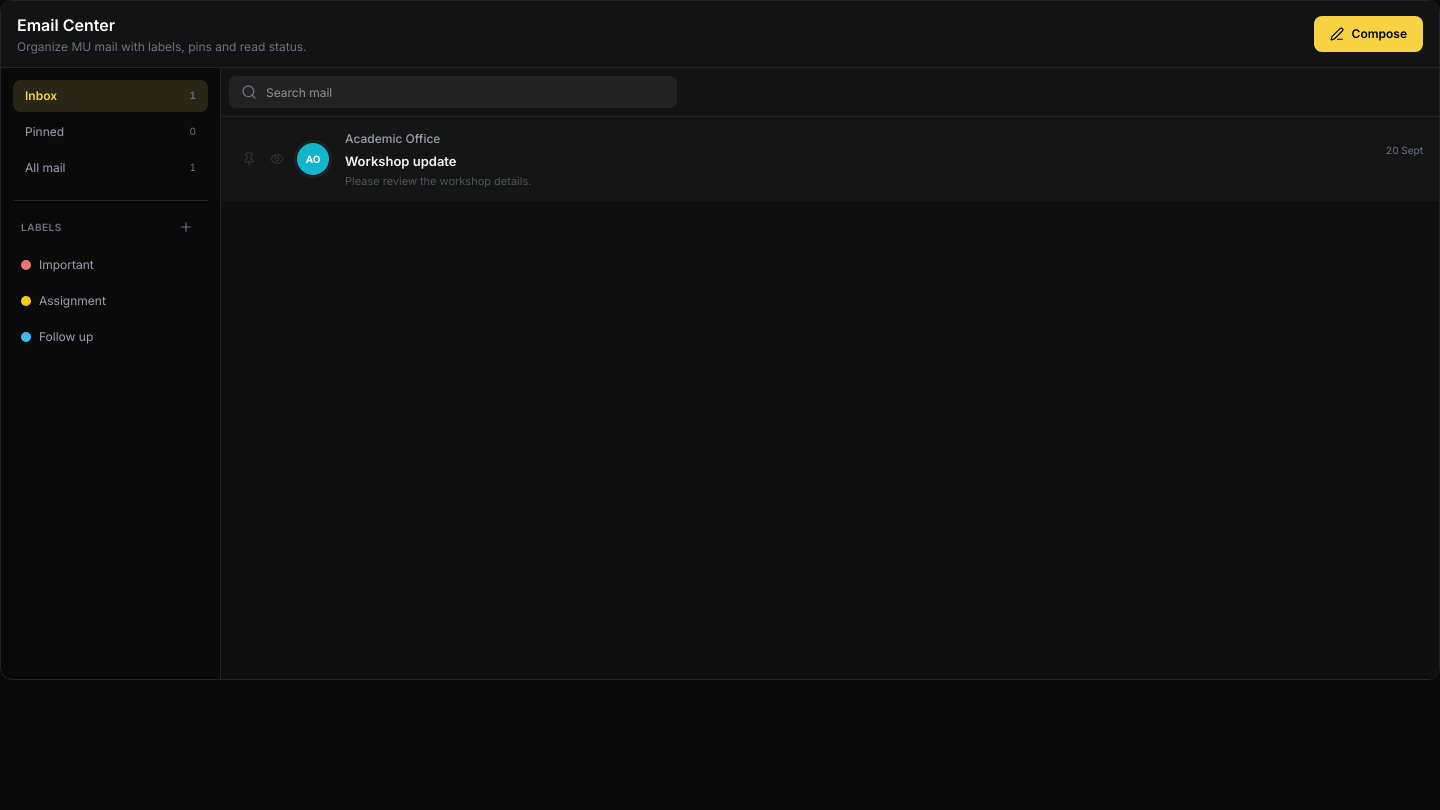
Test: marking an unlabeled email as read removes it from the inbox view
Click the button named "Mark Workshop update as read" at [277, 159], box [265,147,289,171]
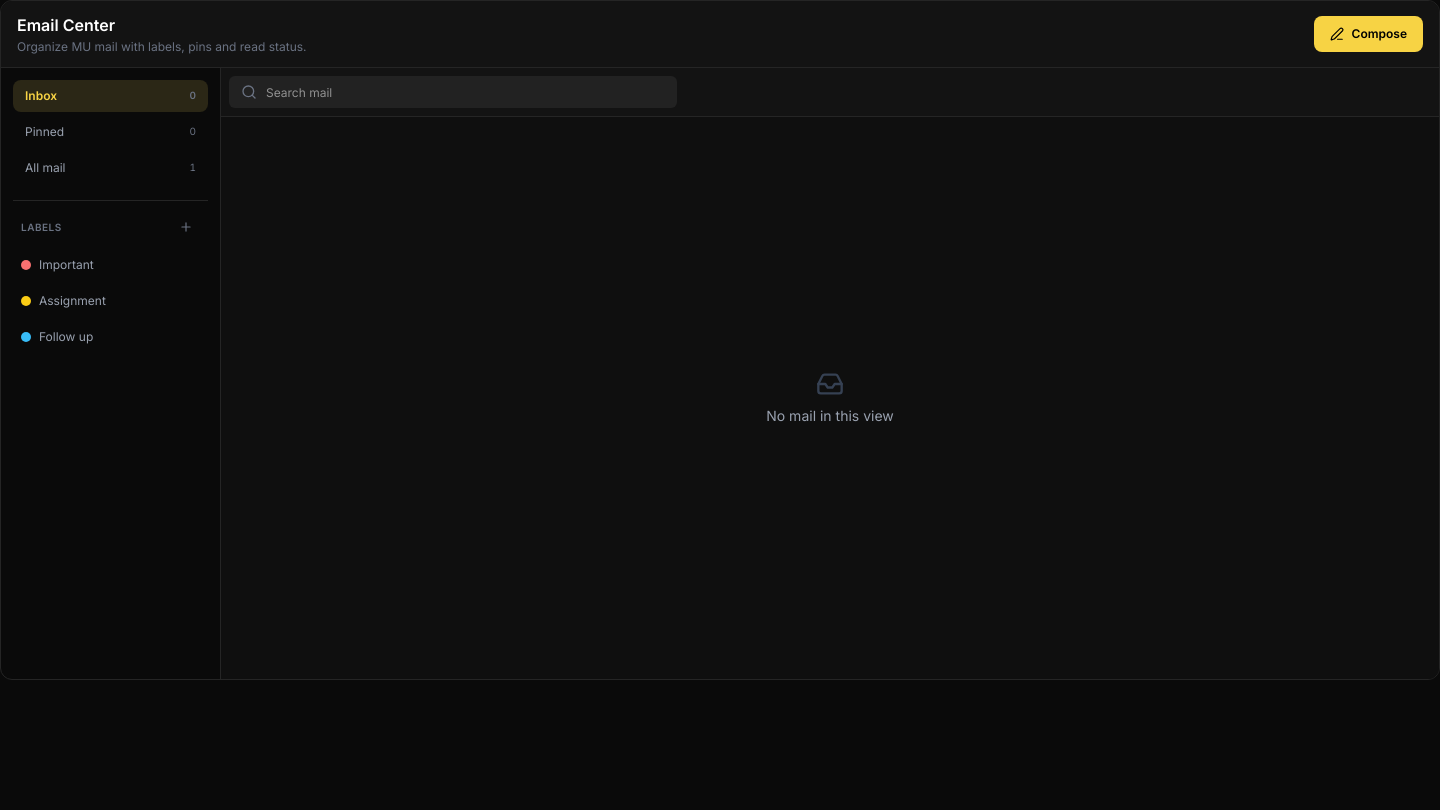
Expected: the text "Workshop update" is gone
